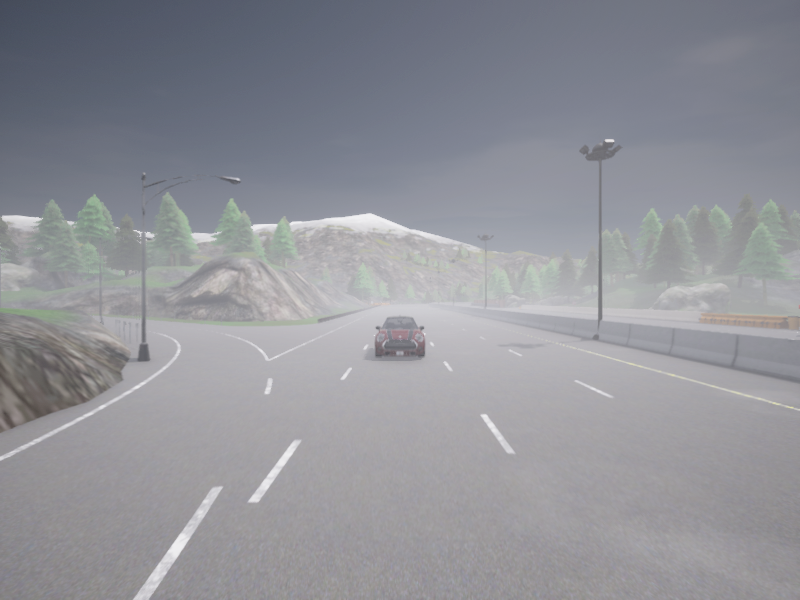vehicle: (374, 315, 425, 357)
